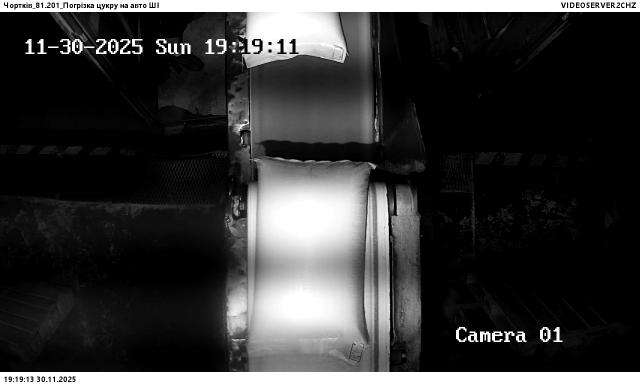bag: (253, 158, 376, 364), (243, 13, 349, 68)
